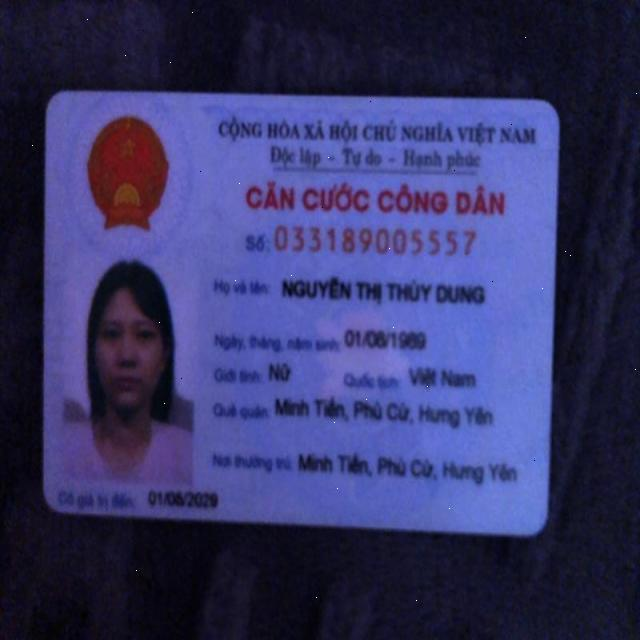current_place: (292, 450, 522, 490)
dob: (344, 324, 430, 356)
expire_date: (147, 485, 220, 515)
gender: (267, 360, 294, 388)
id: (274, 221, 478, 261)
name: (281, 274, 488, 310)
nationality: (407, 362, 480, 396)
origin_place: (268, 391, 504, 430)
